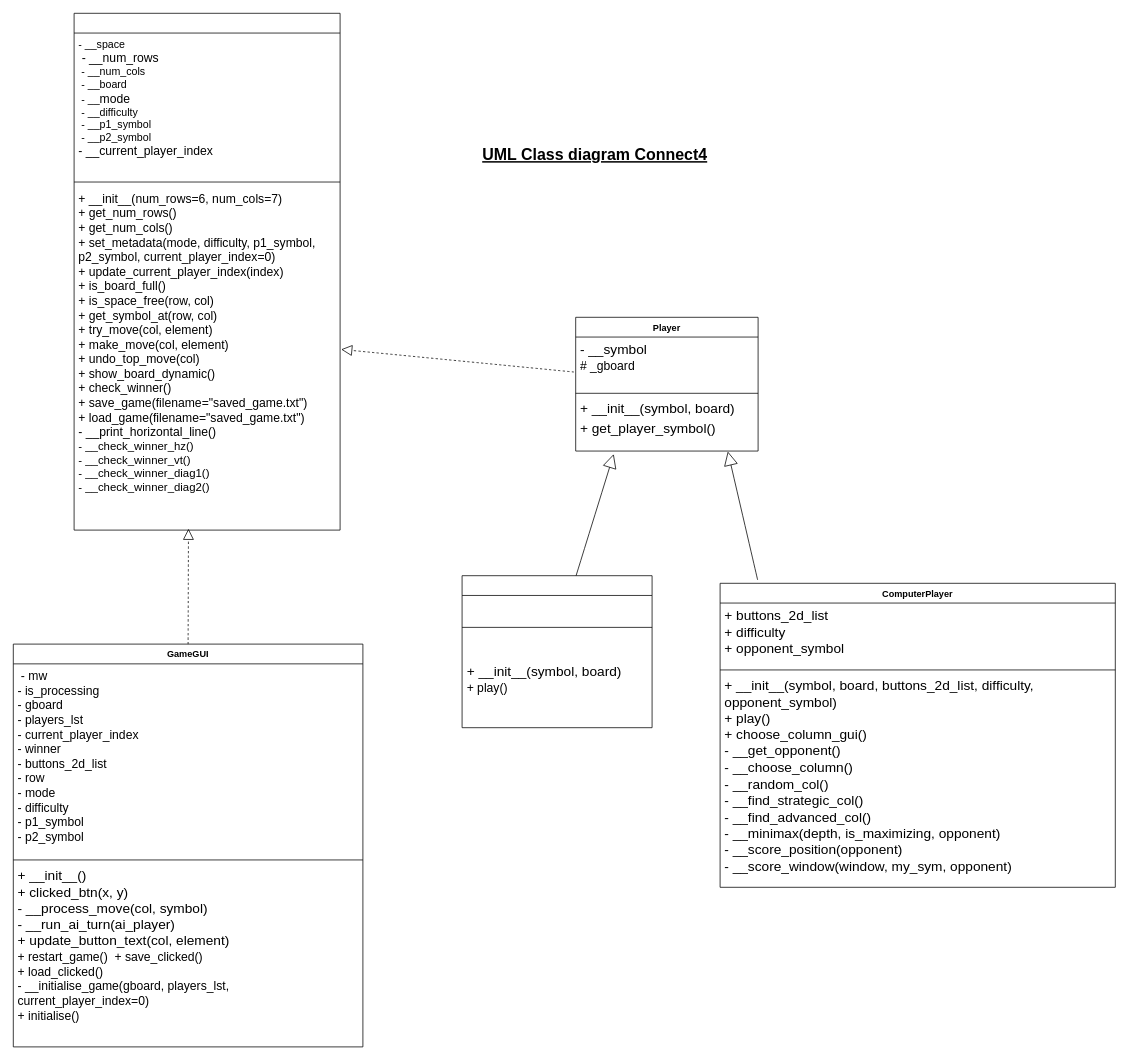
This 1129x1062 diagram has some shape labels left out. Here are the shapes that lost their labels. From the top down, the box of each, then its label:
(73, 13, 340, 530): GameBoard
(461, 575, 652, 728): HumanPlayer
